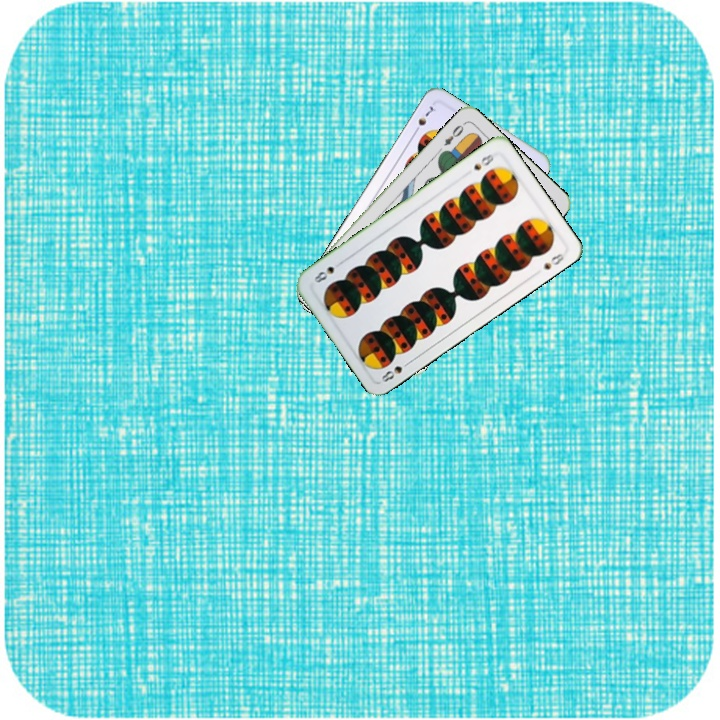EO: (440, 121, 466, 149)
S7: (410, 102, 439, 137)
S8: (377, 357, 414, 385), (469, 150, 496, 173)
